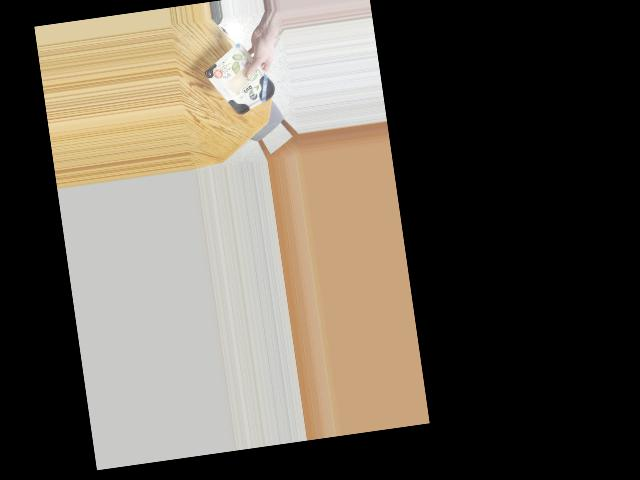cheese: (208, 48, 278, 123)
